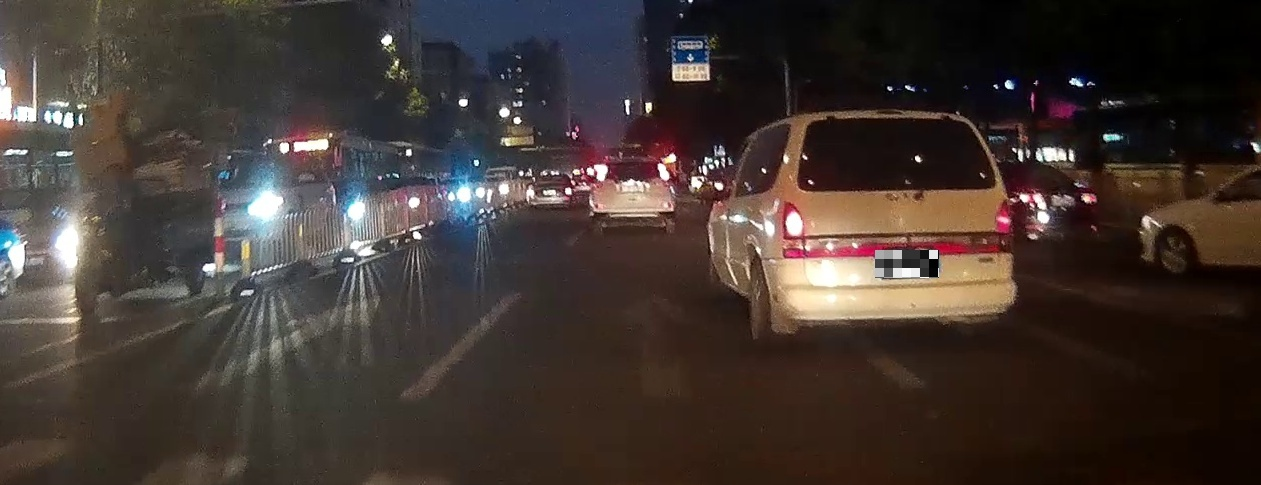L_light: (780, 200, 806, 258), (595, 164, 608, 181)
R_light: (995, 198, 1014, 253), (657, 162, 670, 180)
T_light: (873, 118, 910, 126), (627, 163, 636, 165)
night-left: (769, 109, 1017, 348)
night-no: (592, 159, 676, 234)
plate_1: (875, 250, 939, 278)
